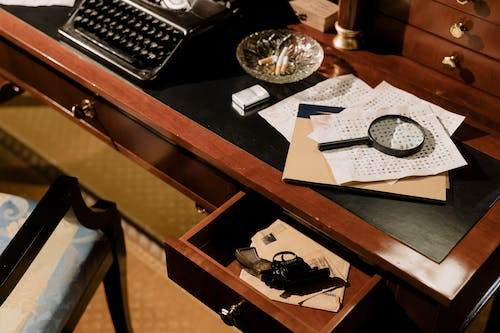cigarette: (274, 45, 288, 77), (258, 52, 277, 65), (280, 56, 290, 74)
gun: (231, 242, 348, 295)
